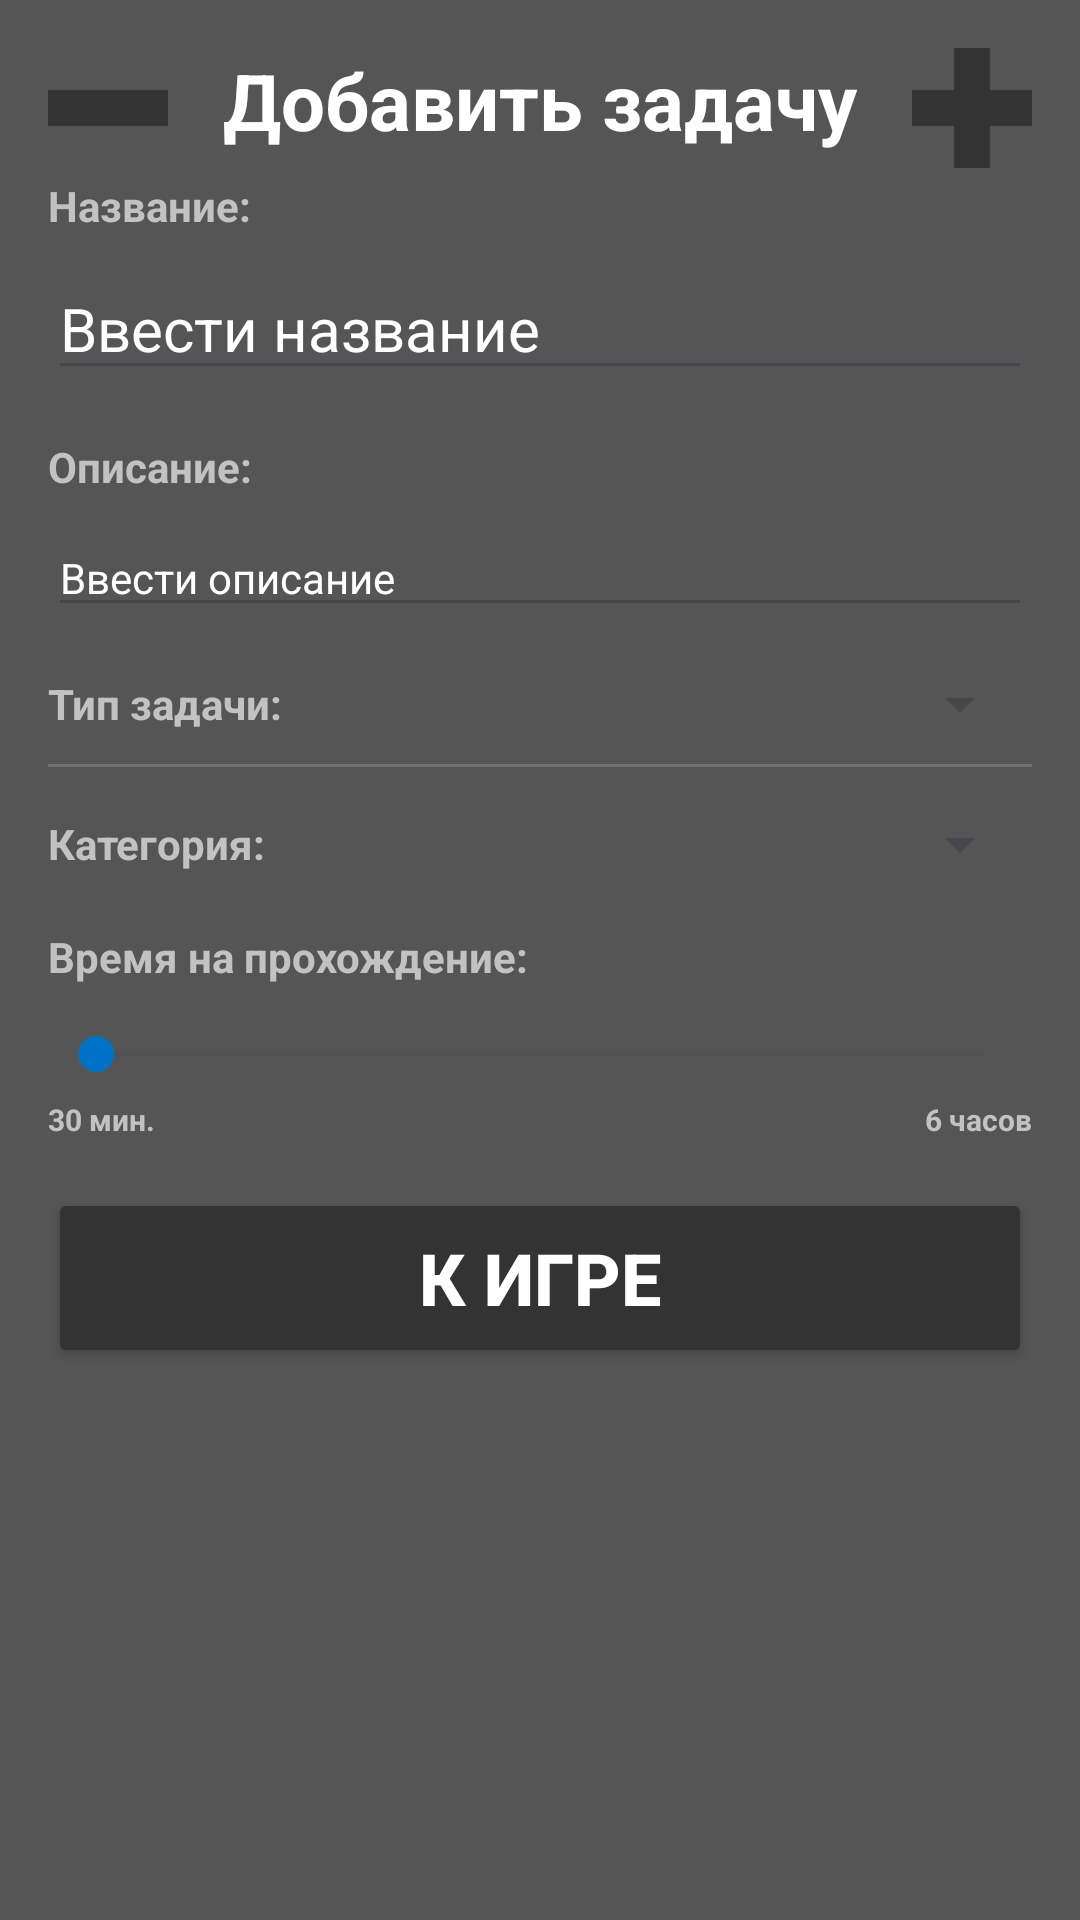

Where to tap for icons on this 1080*1920 app screen, as (x,y):
plus: (972,108)
